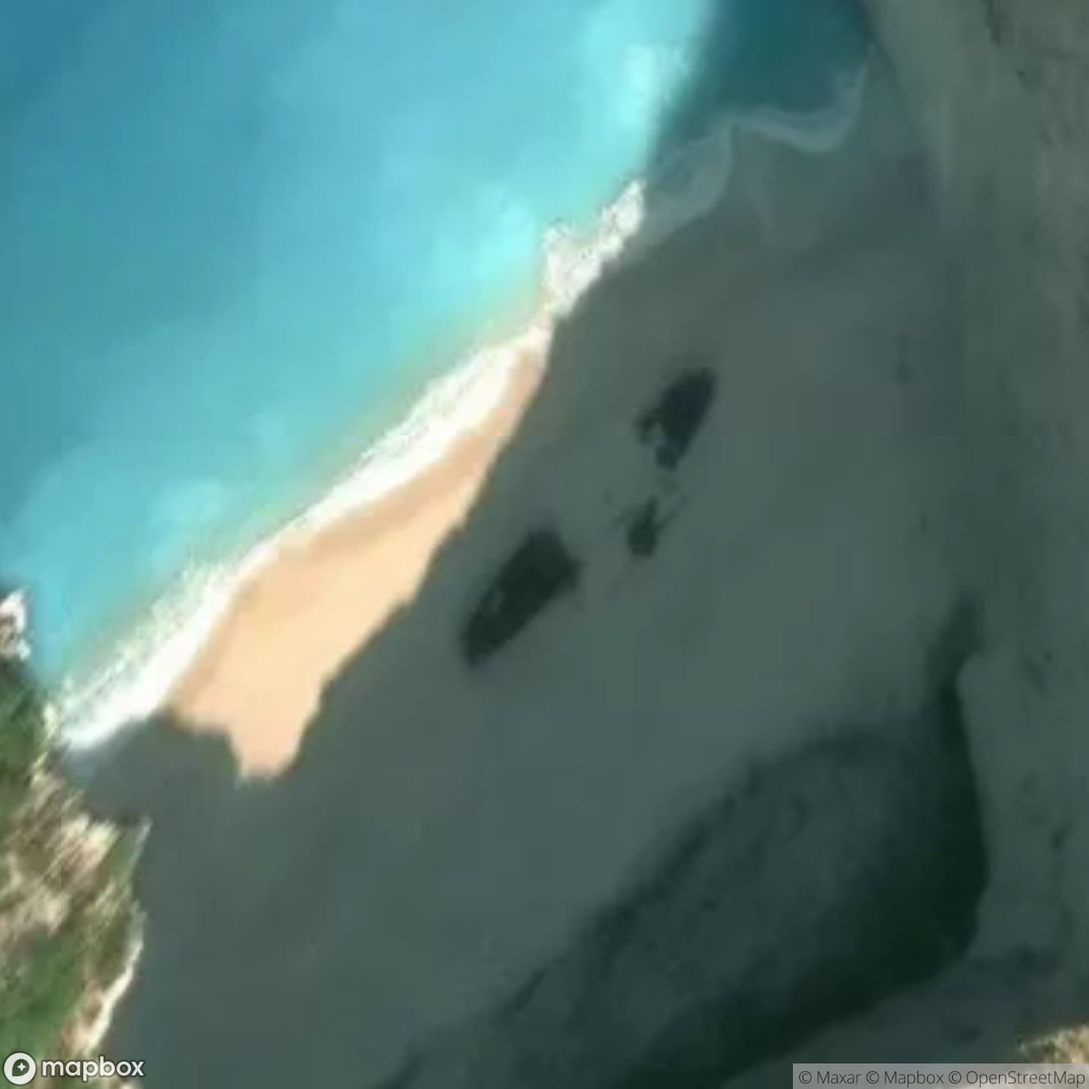Wreck: (406, 632, 849, 774)
